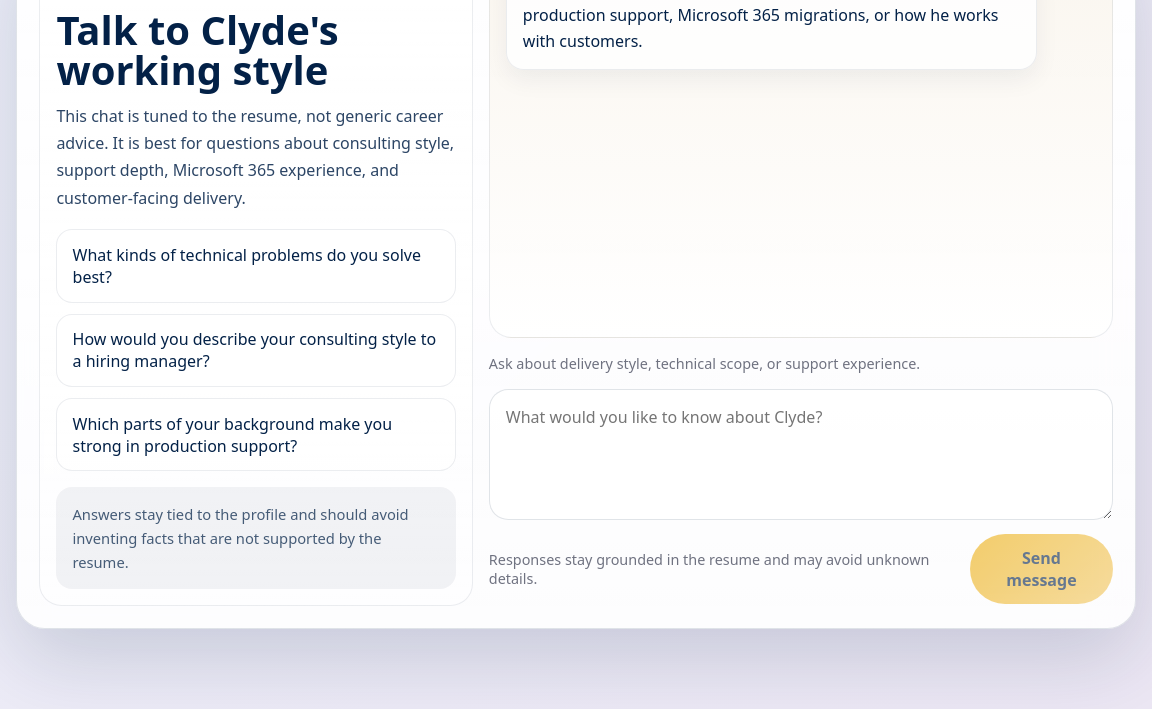
Test case: PortfolioShowcase › sends a chat prompt and renders the reply
(page scrolled)
Type "What do you solve best?" into the text box labelled "Ask about delivery style" at (801, 454), box [489,389,1113,520]
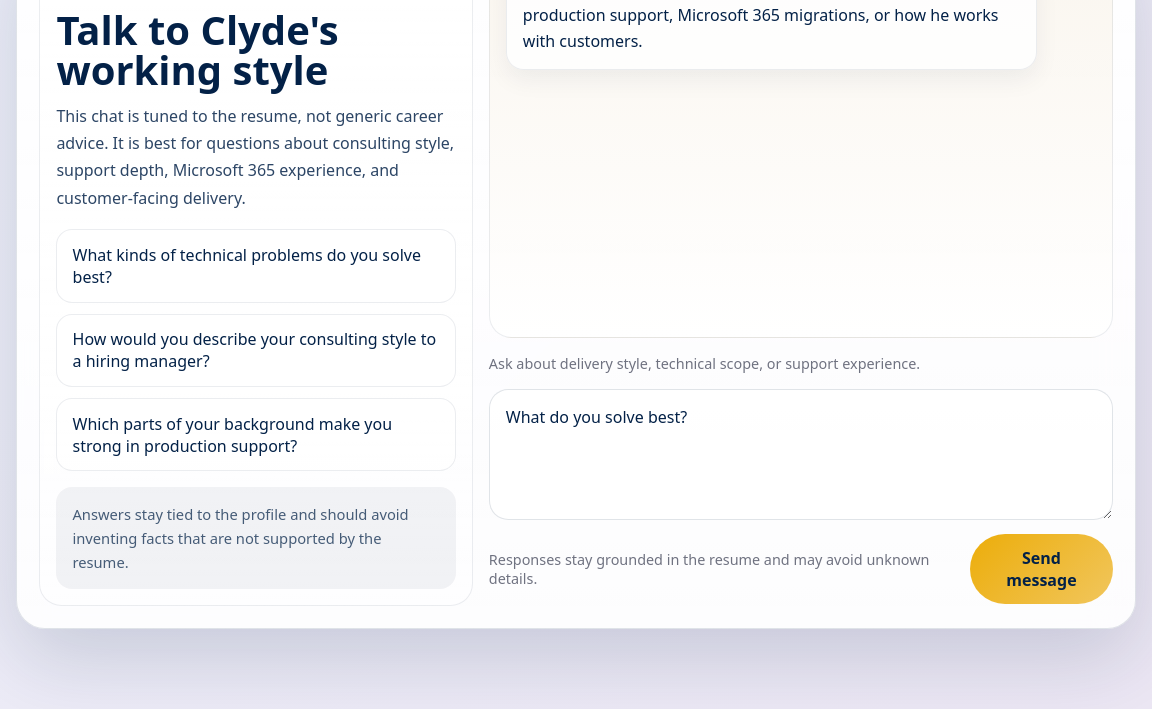
Click the button "Send message" at (1041, 569), box [970,534,1113,604]
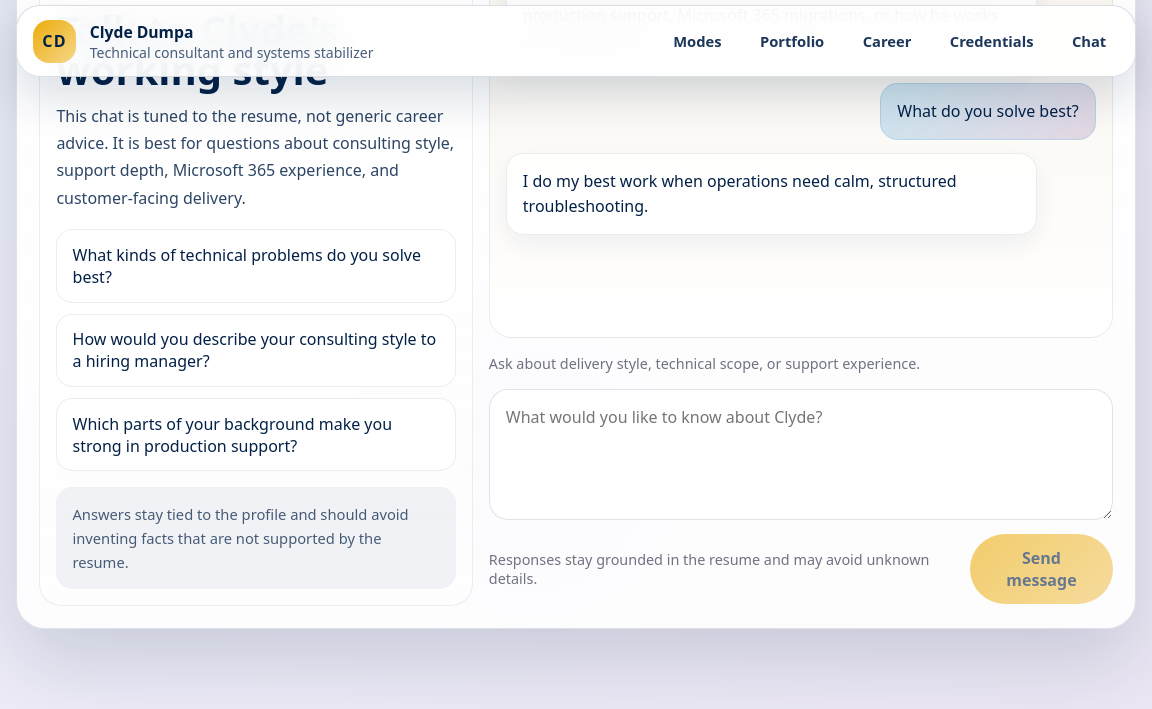
Now the text "What do you solve best?" is shown, box [880,83,1096,140]
Now the text "I do my best work when operations need calm, structured troubleshooting." is shown, box [506,153,1037,235]
